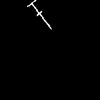double_crochet: (27, 0, 50, 27)
